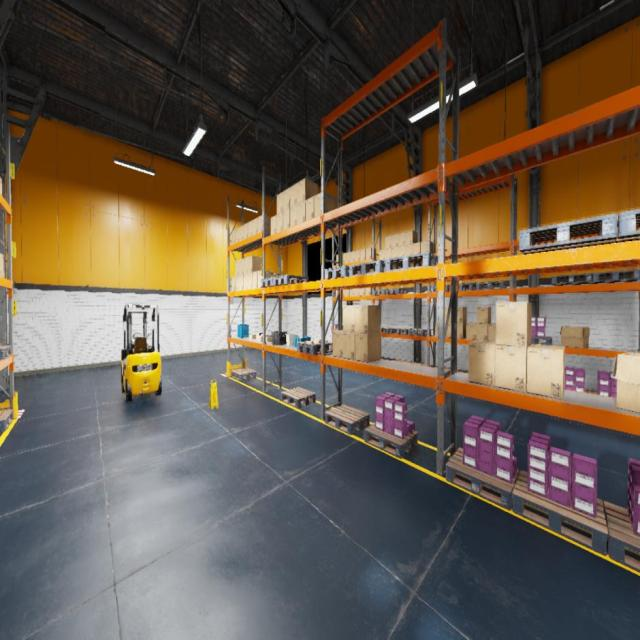box: (527, 344, 565, 399), (495, 345, 530, 392), (613, 353, 640, 413), (496, 302, 531, 347), (468, 339, 496, 386), (355, 305, 380, 334), (356, 332, 380, 362), (560, 326, 590, 348), (314, 192, 336, 217), (297, 178, 318, 204), (343, 332, 355, 360), (343, 306, 355, 333), (332, 330, 343, 358), (258, 270, 274, 288), (258, 214, 272, 233), (248, 256, 262, 273), (477, 307, 491, 323), (306, 196, 314, 221), (477, 324, 488, 341), (466, 322, 476, 340), (290, 183, 297, 208), (298, 200, 305, 224), (283, 187, 290, 211), (406, 230, 417, 245), (421, 240, 433, 253), (290, 205, 297, 227), (283, 208, 290, 230), (458, 322, 467, 338), (488, 324, 496, 341), (458, 307, 467, 322), (276, 192, 282, 214), (366, 247, 376, 260), (444, 322, 452, 338), (270, 214, 276, 235), (277, 212, 283, 232), (444, 308, 452, 322), (252, 271, 258, 289), (398, 232, 405, 247), (384, 236, 392, 249), (384, 248, 392, 261), (252, 218, 258, 235), (392, 233, 398, 248), (365, 288, 376, 296), (405, 244, 413, 255), (243, 273, 248, 290), (413, 242, 420, 254), (398, 245, 405, 257), (0, 252, 3, 277), (248, 272, 252, 290), (392, 246, 398, 258), (379, 249, 385, 261), (248, 220, 252, 237), (244, 257, 248, 274), (239, 258, 243, 275), (360, 249, 366, 260), (354, 250, 360, 261), (244, 223, 248, 239), (239, 274, 243, 290), (231, 276, 235, 292), (231, 230, 235, 244), (350, 251, 355, 262), (345, 252, 350, 263), (236, 259, 239, 276), (240, 225, 243, 241), (236, 227, 239, 243), (354, 288, 360, 296), (236, 276, 239, 290), (359, 288, 365, 295), (258, 332, 268, 336), (0, 177, 2, 196), (266, 336, 272, 342), (344, 290, 350, 296), (259, 335, 266, 340), (349, 289, 354, 296), (250, 334, 256, 339), (436, 322, 438, 336), (343, 254, 345, 264), (336, 254, 338, 264), (256, 334, 259, 339), (336, 290, 338, 297), (342, 290, 344, 296)
forklift: (122, 305, 162, 402)
pallets: (513, 470, 608, 556), (446, 447, 519, 511), (519, 213, 617, 254), (604, 501, 640, 573), (364, 423, 418, 458), (325, 404, 369, 434), (385, 252, 438, 272), (614, 209, 639, 242), (280, 387, 316, 408), (591, 269, 640, 283), (350, 260, 386, 277), (297, 340, 332, 354), (552, 273, 592, 285), (324, 266, 357, 279), (274, 274, 309, 286), (0, 409, 14, 432), (231, 368, 256, 380), (476, 282, 506, 290), (449, 283, 476, 291), (408, 328, 431, 336), (0, 345, 12, 360), (531, 337, 552, 345), (390, 328, 413, 334), (261, 278, 276, 287), (386, 288, 408, 294), (431, 285, 449, 292), (410, 362, 432, 367), (373, 289, 390, 295), (381, 327, 394, 333), (394, 360, 413, 364), (434, 366, 451, 370), (335, 324, 343, 330), (574, 389, 588, 392), (588, 391, 598, 394)
